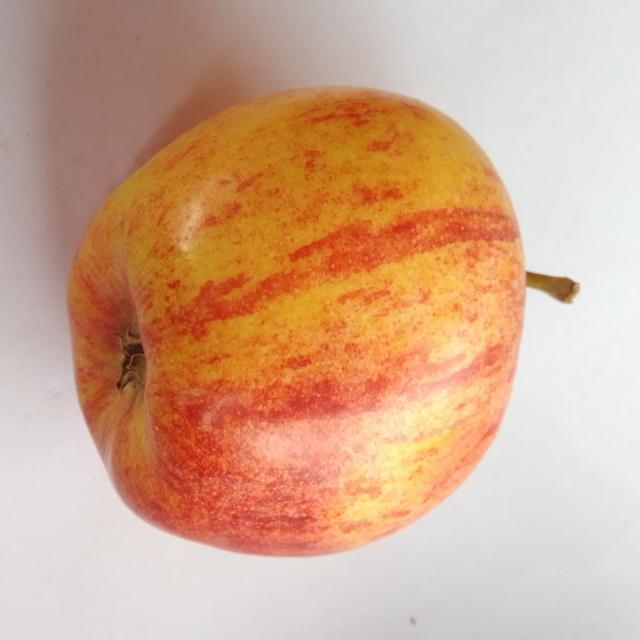Fresh Apple: (53, 83, 530, 565)
